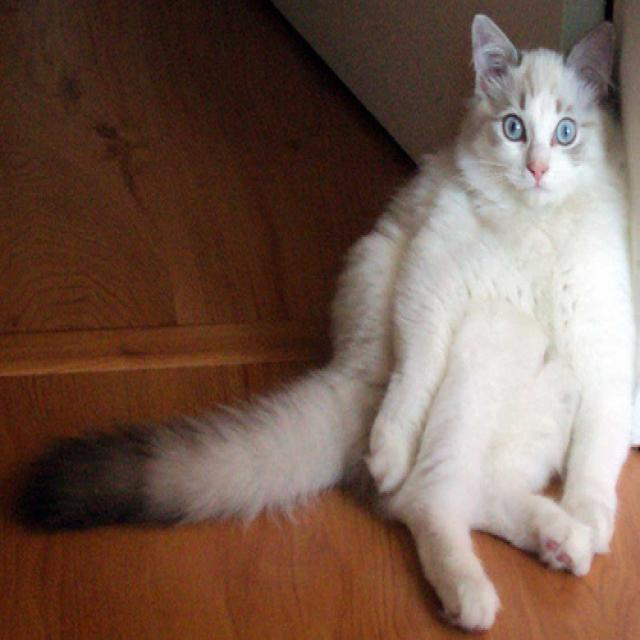Ragdoll: (470, 12, 613, 205)
